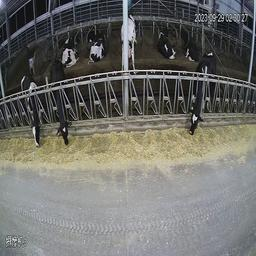cow: (18, 76, 42, 149), (121, 11, 143, 73), (50, 63, 66, 148), (86, 30, 107, 65), (157, 27, 177, 60), (181, 25, 199, 60), (63, 33, 82, 65)
